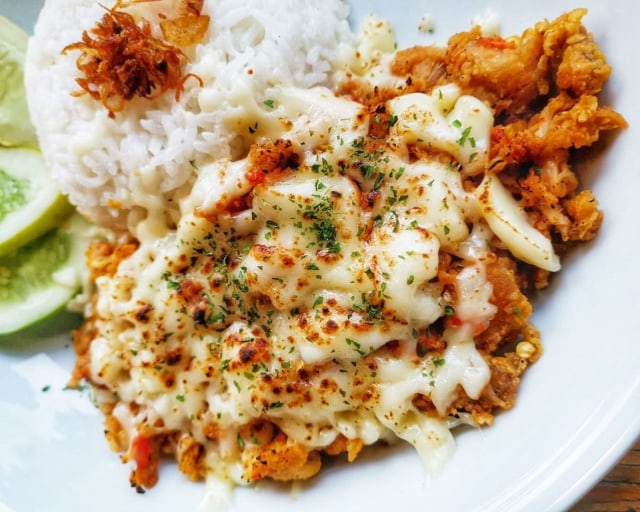ayam_geprek: (76, 29, 612, 497)
